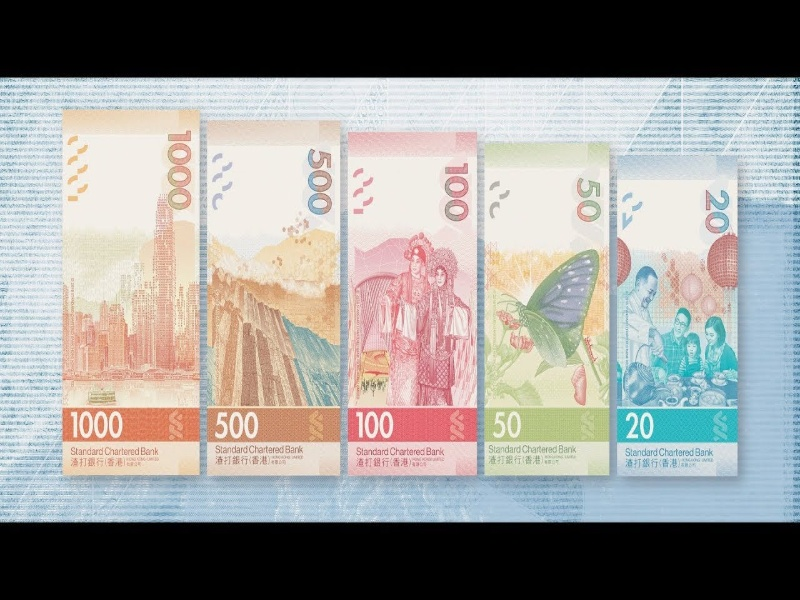cash: (62, 110, 197, 473), (205, 120, 340, 473), (348, 133, 476, 474), (485, 142, 607, 474), (616, 156, 736, 477)
